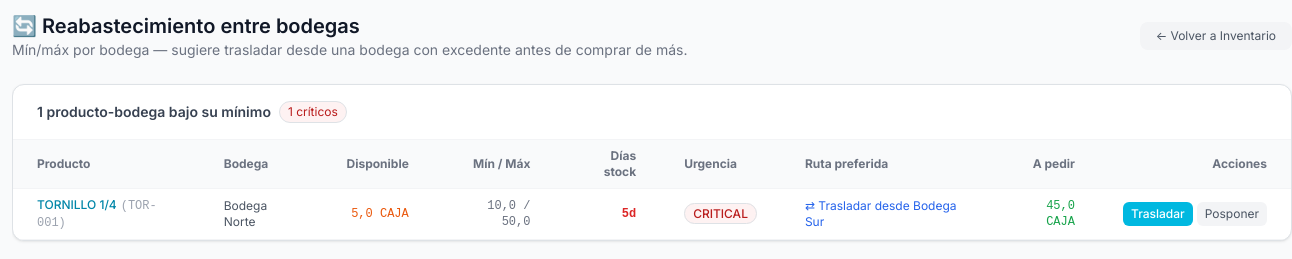
Test: ReplenishmentPage › muestra un toast de error si la ejecución falla (sugerencia obsoleta)
The image size is (1292, 259).
Click the button "Trasladar": (1158, 214) [1123, 202, 1193, 226]
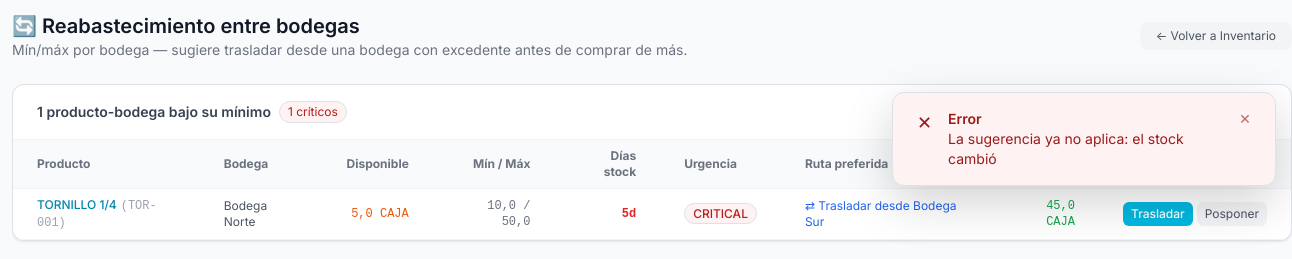
expect the text "La sugerencia ya no aplica: el stock cambió" is shown: met, box [948, 129, 1223, 169]
